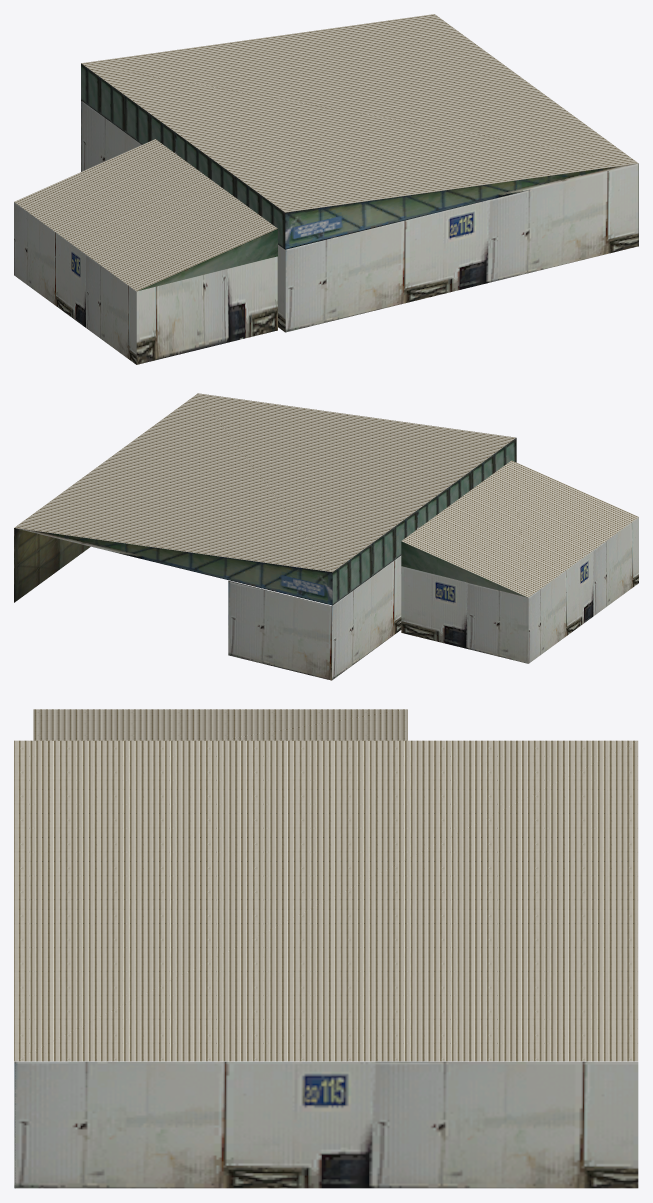
File: fna2.gltf
The picture shows the model from 3 angles, top to bottom: view 1: azimuth 30°, elevation 25°; view 2: azimuth 150°, elevation 25°; view 3: azimuth 270°, elevation 25°; orthographic projection. The views are drawn at different scales.
Parts seen in each view (by area): view 1: node2, node1; view 2: node2, node1; view 3: node2, node1.
Boxes of the visible parts, x1,y1,x2,y2 form: node2: (14, 14, 638, 291); node1: (14, 63, 638, 364); node2: (14, 393, 638, 597); node1: (14, 438, 638, 680); node2: (14, 709, 638, 1061); node1: (14, 1061, 638, 1188).
Size of the model in its own units: 28.07 by 6.6 by 20.03.
